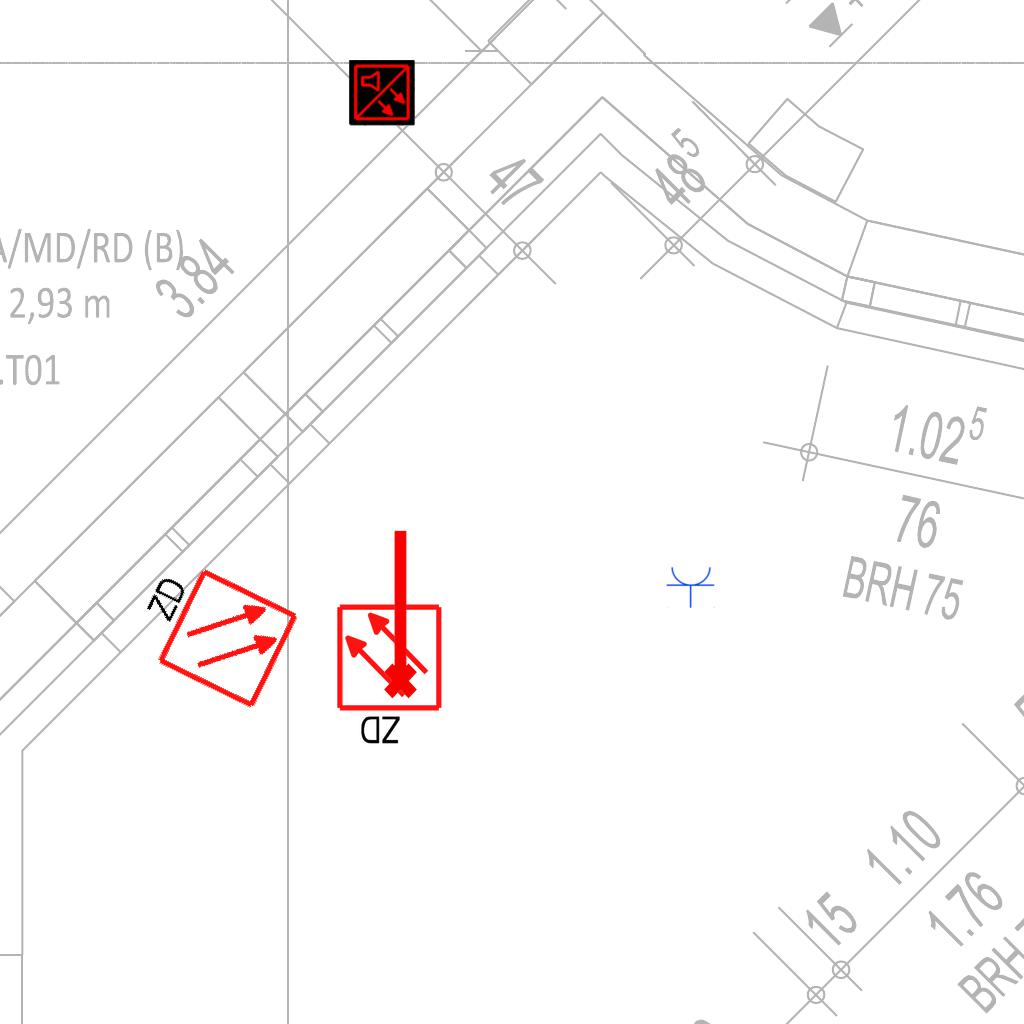ASR_Ansaugoeffnung: (375, 525, 421, 701)
OKW_Multisensormelder_(Kombination_optischer_Rauch-Kahlenmonoxid_Waerme-Melder): (349, 60, 415, 126)
Schukosteckdose_einfach: (666, 565, 716, 608)
ZD_Melder_in_Zwischendecke_mit_Revisionsoeffnung_mind_40_x_40_cm: (118, 547, 302, 716), (334, 602, 448, 751)
